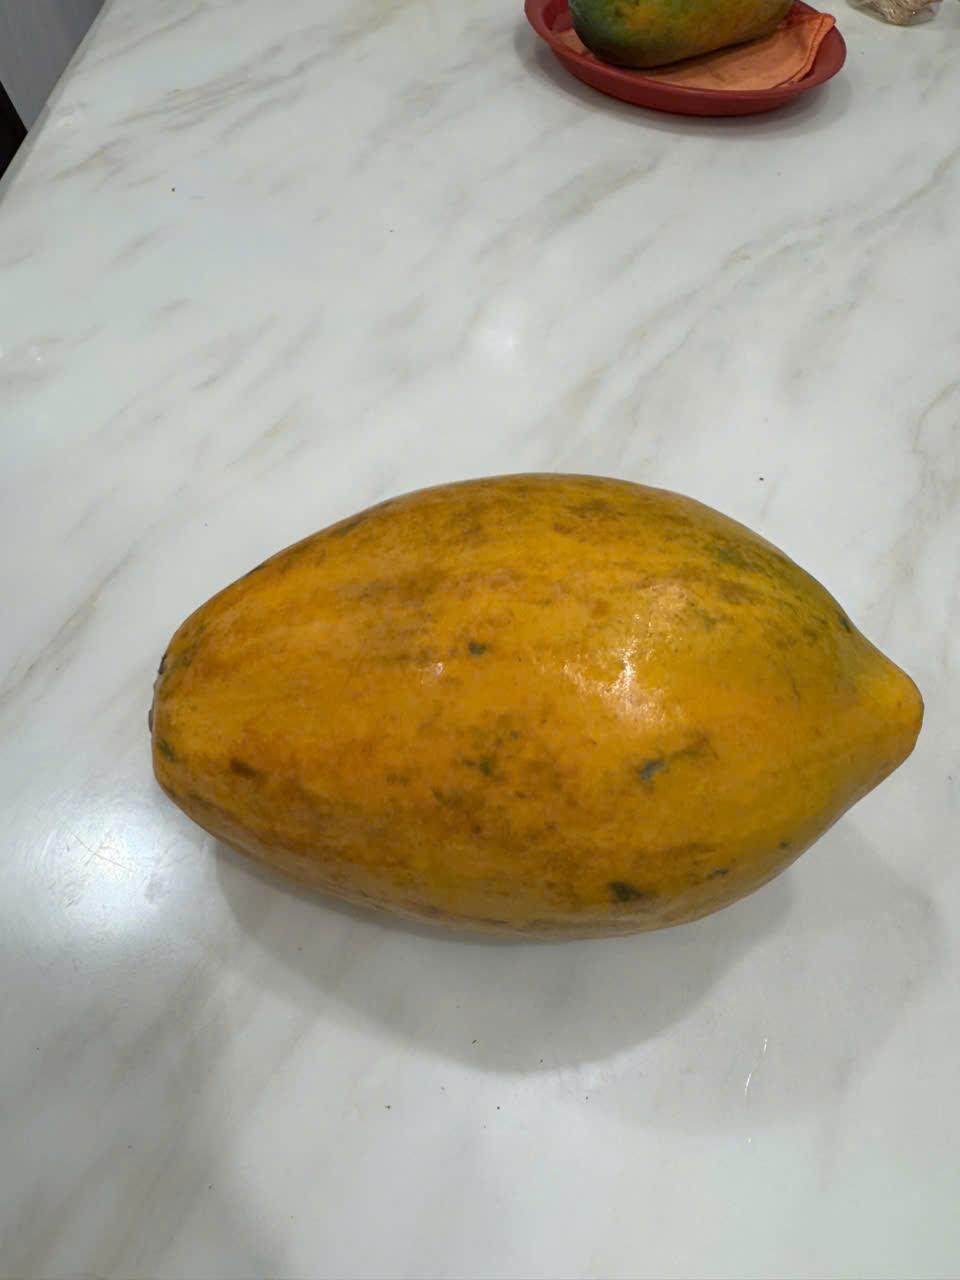papaya: (124, 434, 952, 1058)
